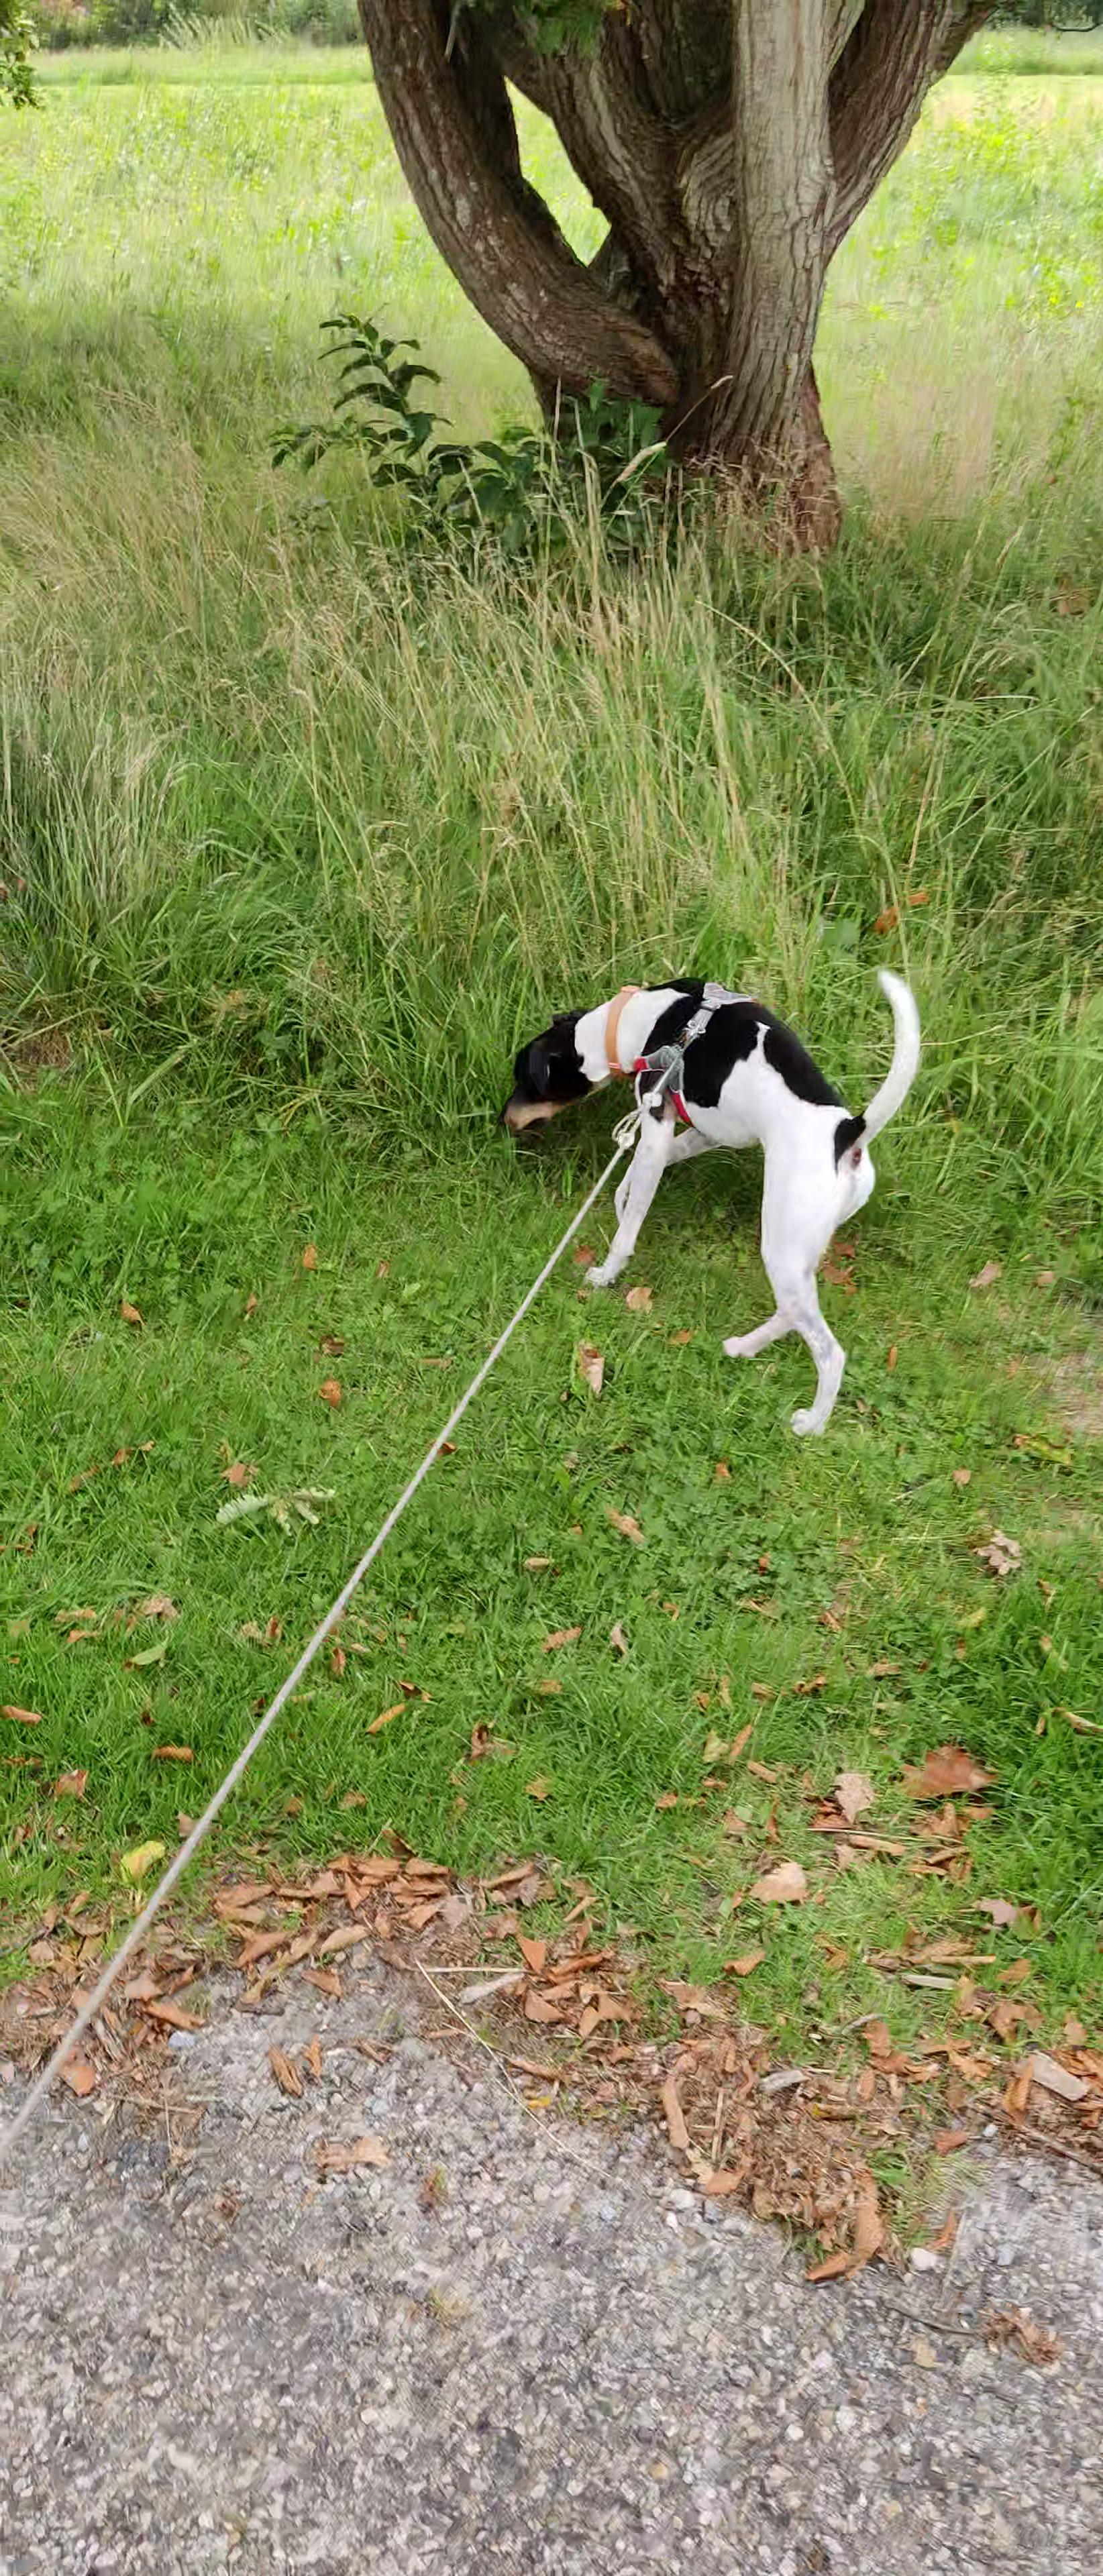Dog: (492, 933, 944, 1447)
